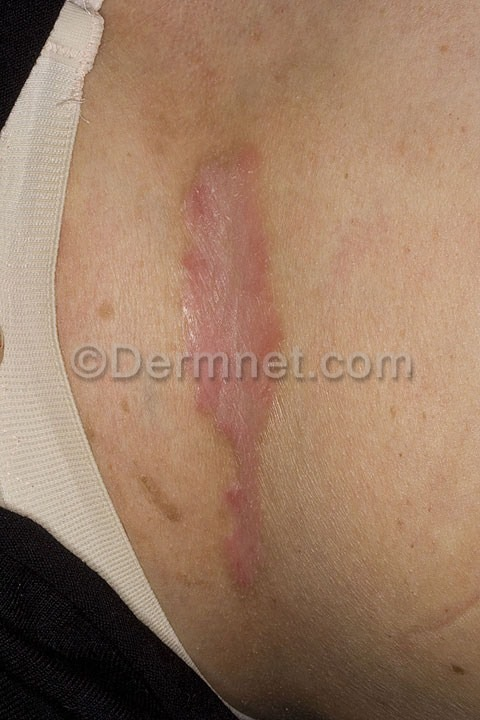Psoriasis: (166, 135, 305, 612)
